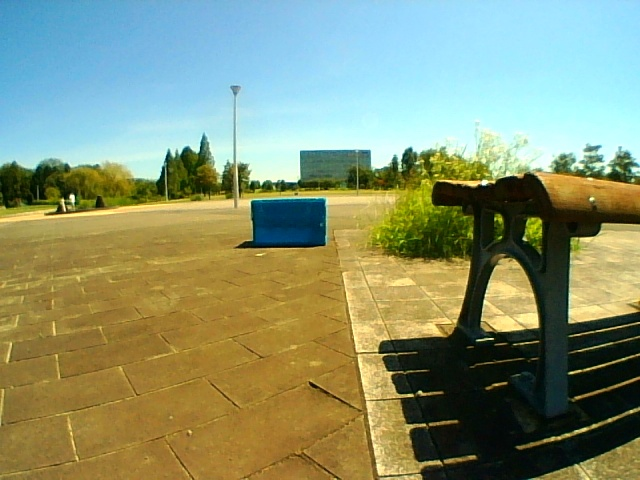blue_box: (253, 200, 326, 245)
